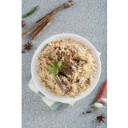briyani: (40, 41, 96, 97)
